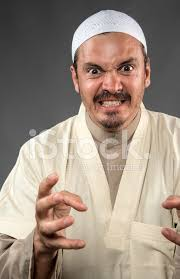middle_eastern_male: (68, 15, 153, 133)
